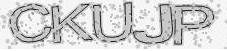C: (8, 2, 52, 45)
J: (132, 2, 174, 47)
K: (51, 4, 93, 44)
P: (172, 4, 214, 46)
U: (91, 1, 134, 45)
